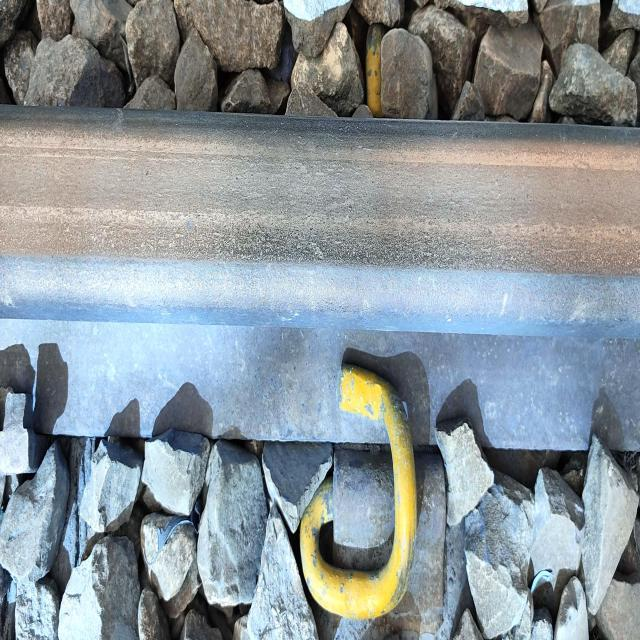Good Fasteners: (300, 364, 446, 638), (366, 23, 383, 117)
